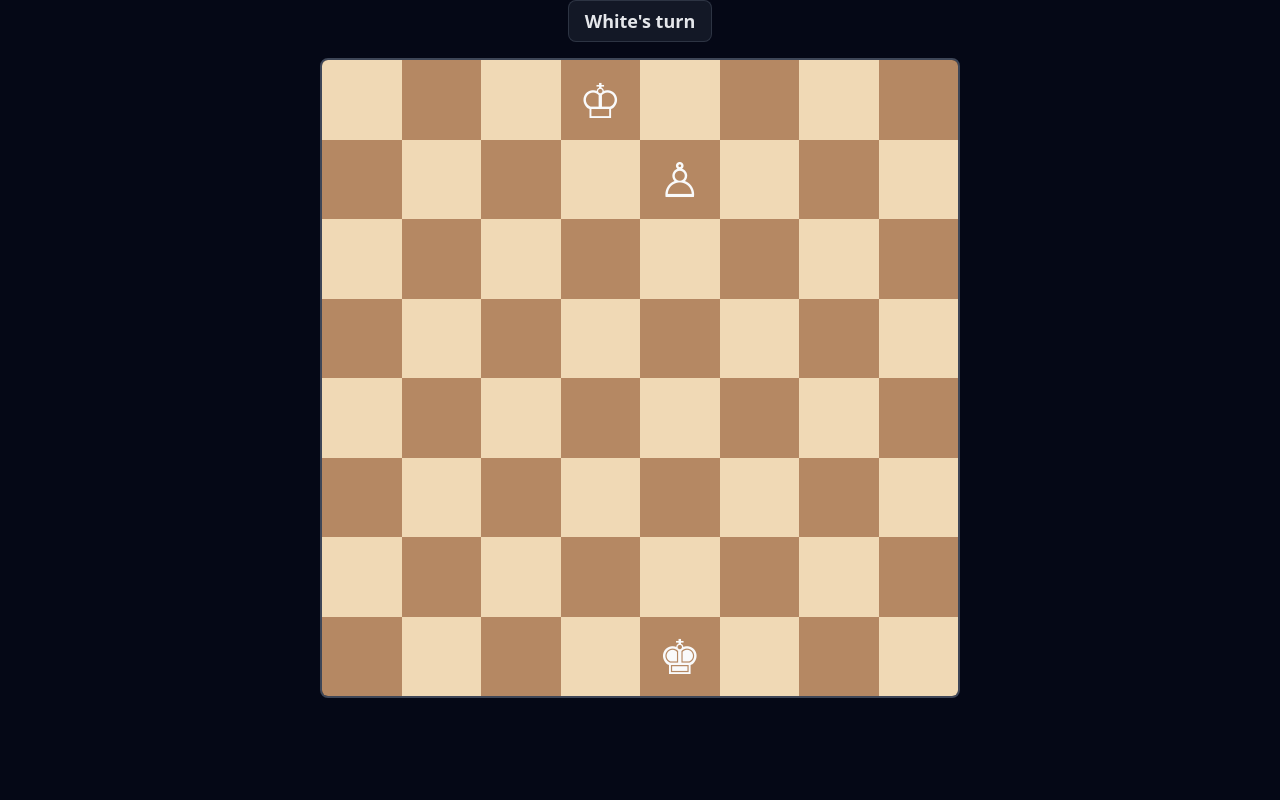
Test: App › Pawn promotion (Issue #34) › should show promotion dialog when pawn reaches final rank
The image size is (1280, 800).
Click the cell named "square e7" at (680, 179), box [640,140,720,219]
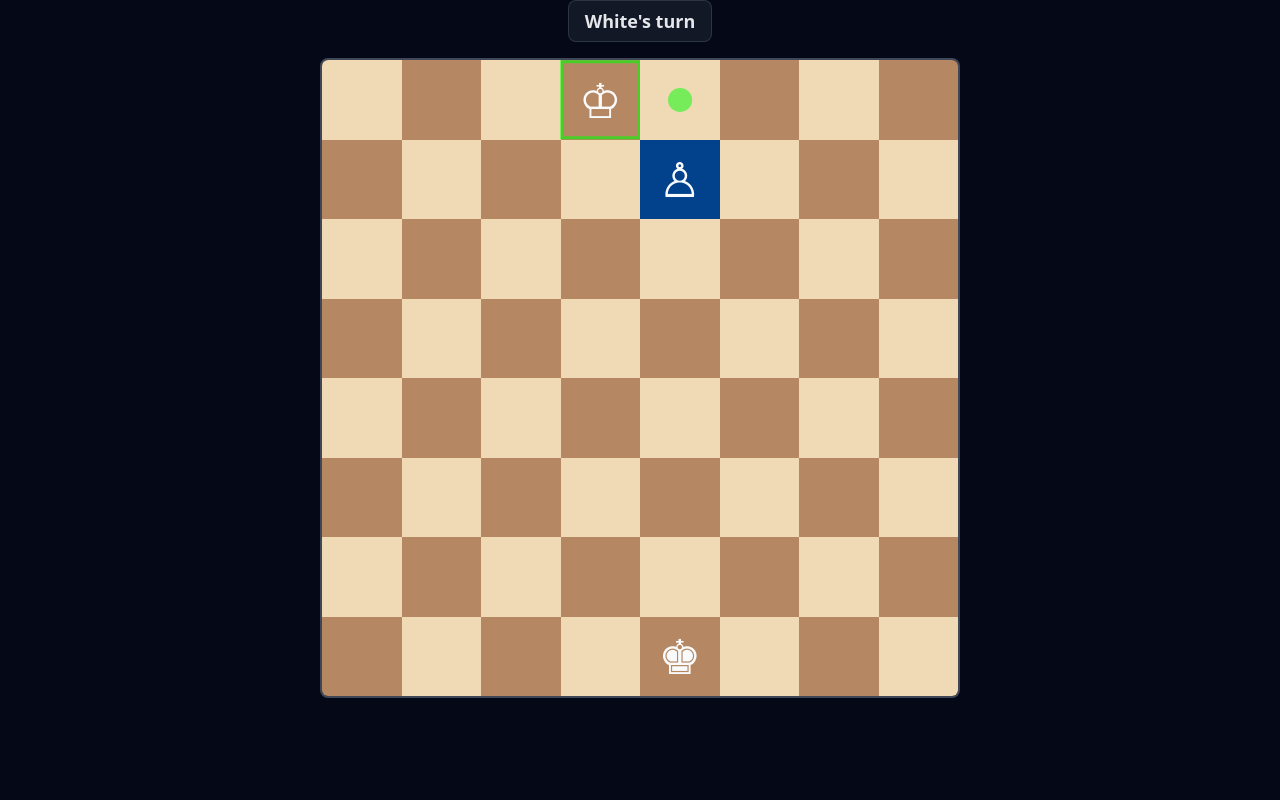
Click on e8 to trigger promotion
Click the cell named "square e8" at (680, 100), box [640,60,720,140]
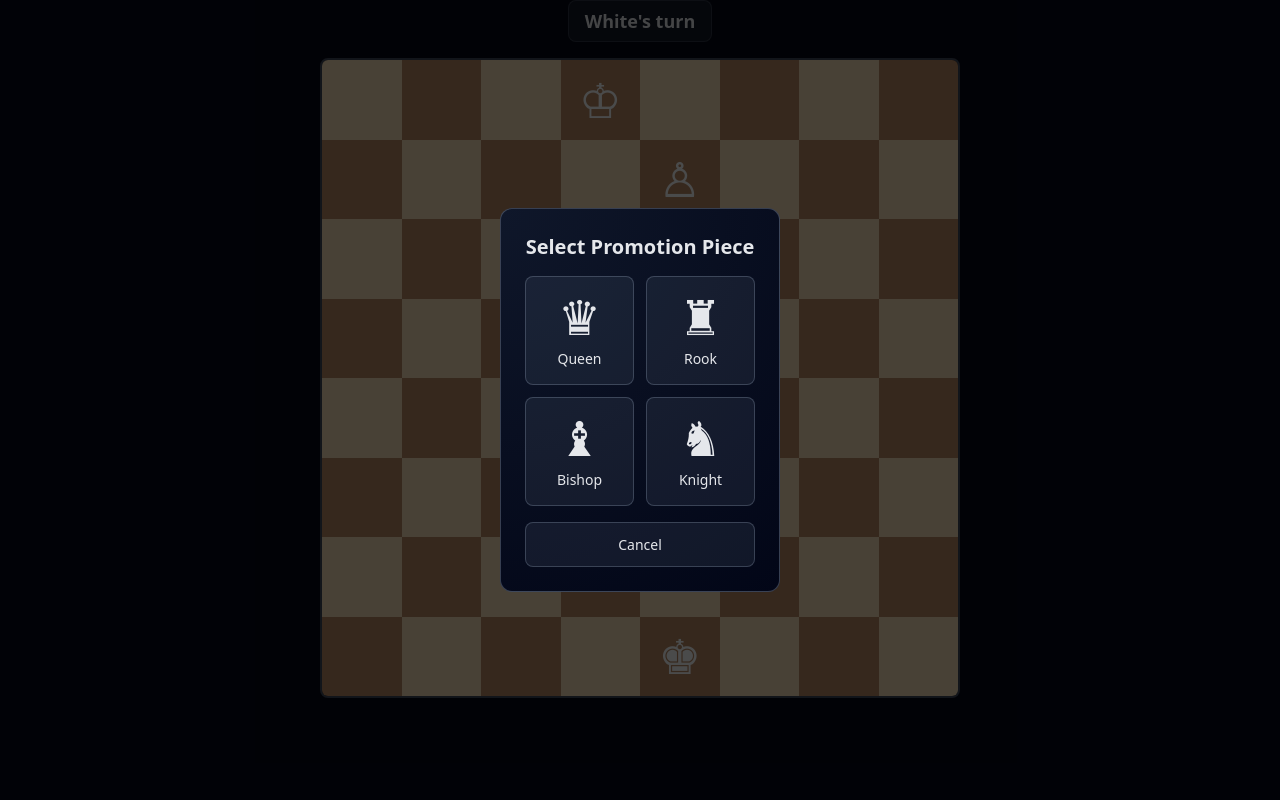
Now the dialog "Select Promotion Piece" is shown
